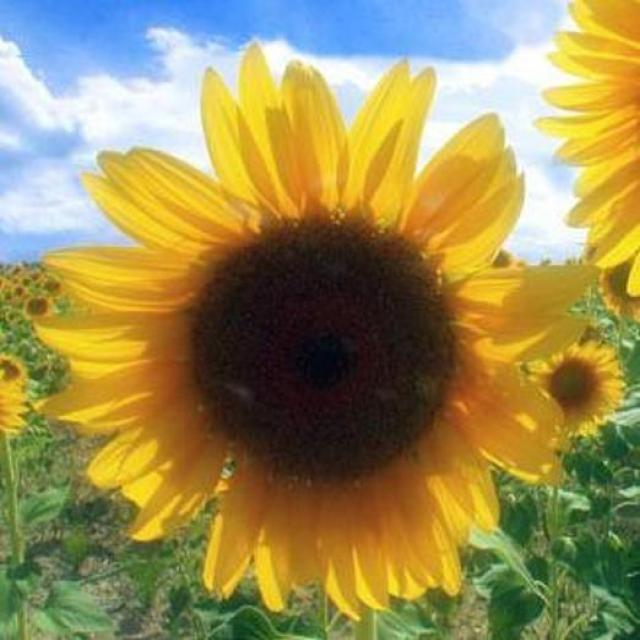sunflower: (32, 35, 602, 619), (527, 0, 640, 304), (526, 327, 630, 439), (594, 252, 640, 326), (2, 351, 32, 444), (479, 236, 522, 275), (22, 294, 59, 326), (40, 268, 64, 296), (579, 238, 606, 262), (12, 282, 29, 306), (10, 262, 29, 282), (26, 267, 45, 285), (3, 286, 16, 306), (0, 270, 6, 294)
